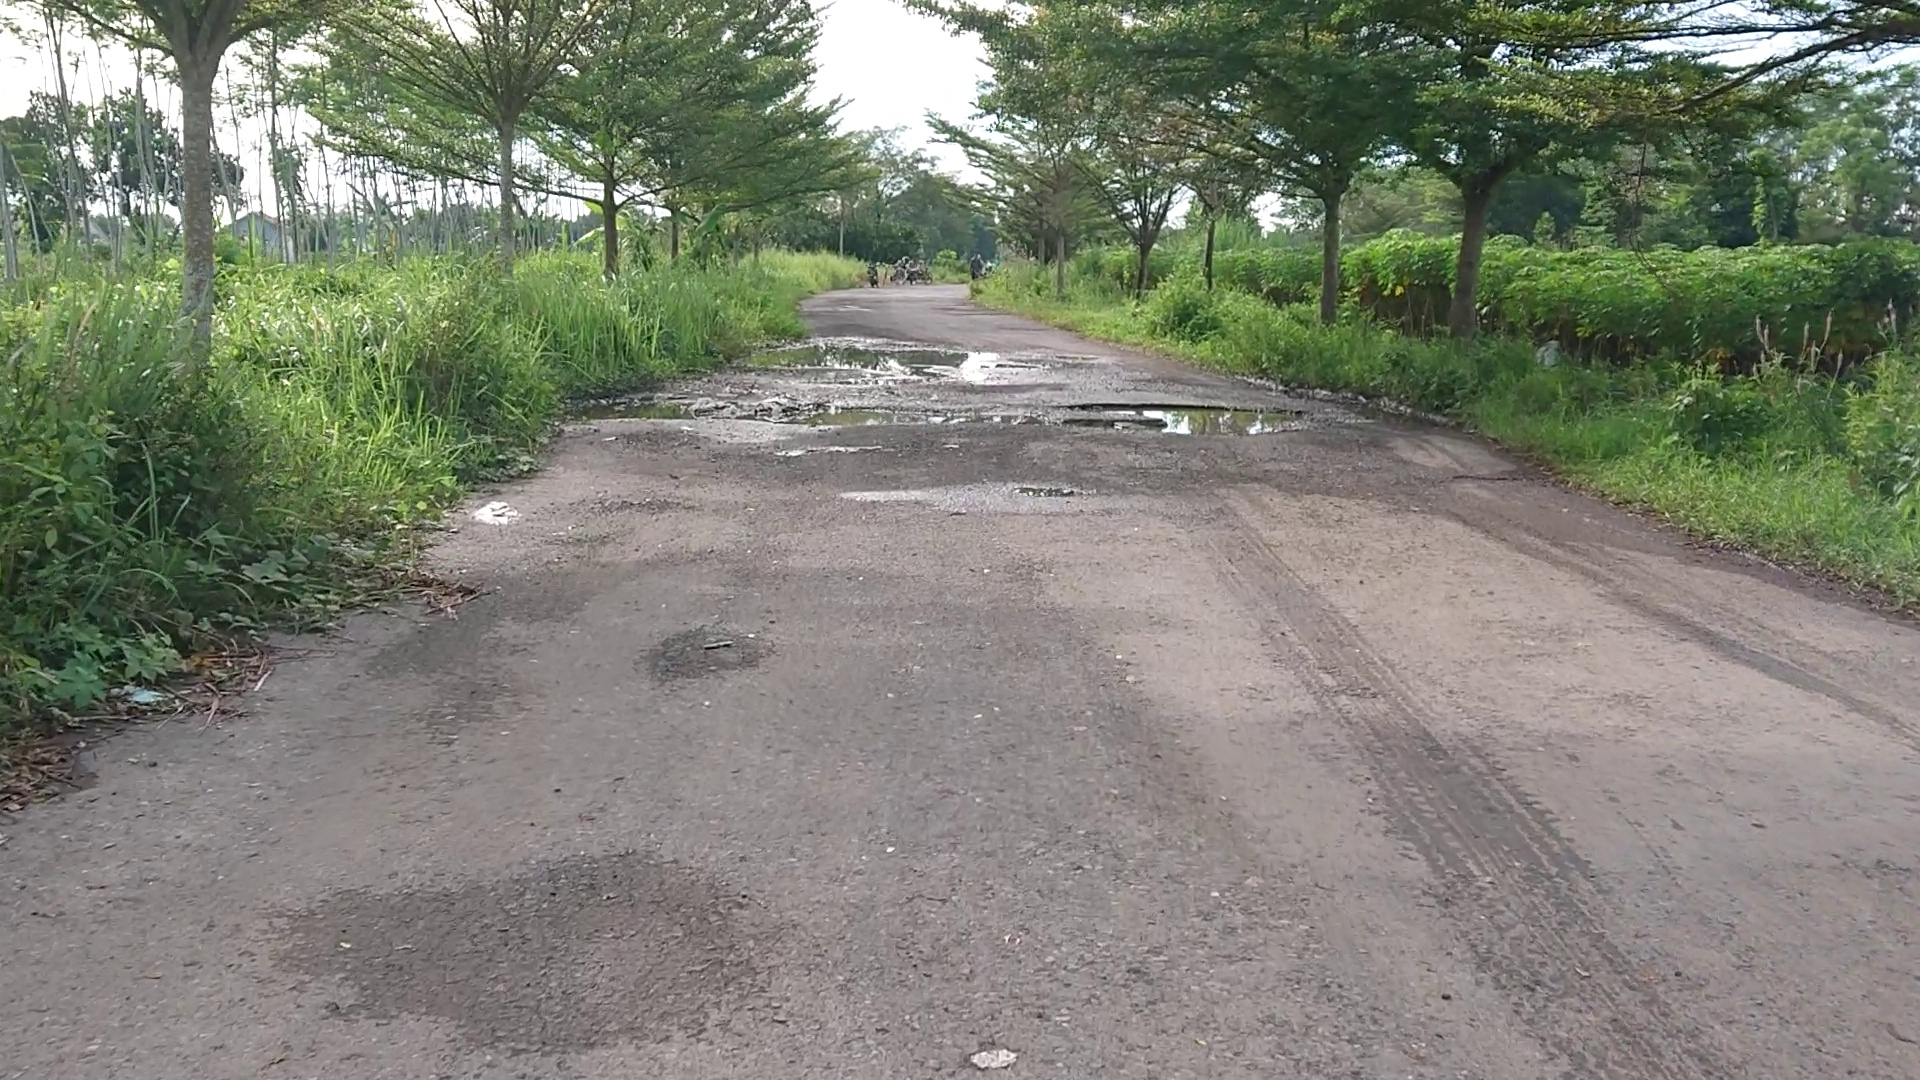Berlubang: (756, 343, 1038, 382), (757, 404, 1054, 433), (1081, 407, 1321, 443), (567, 394, 742, 426)
